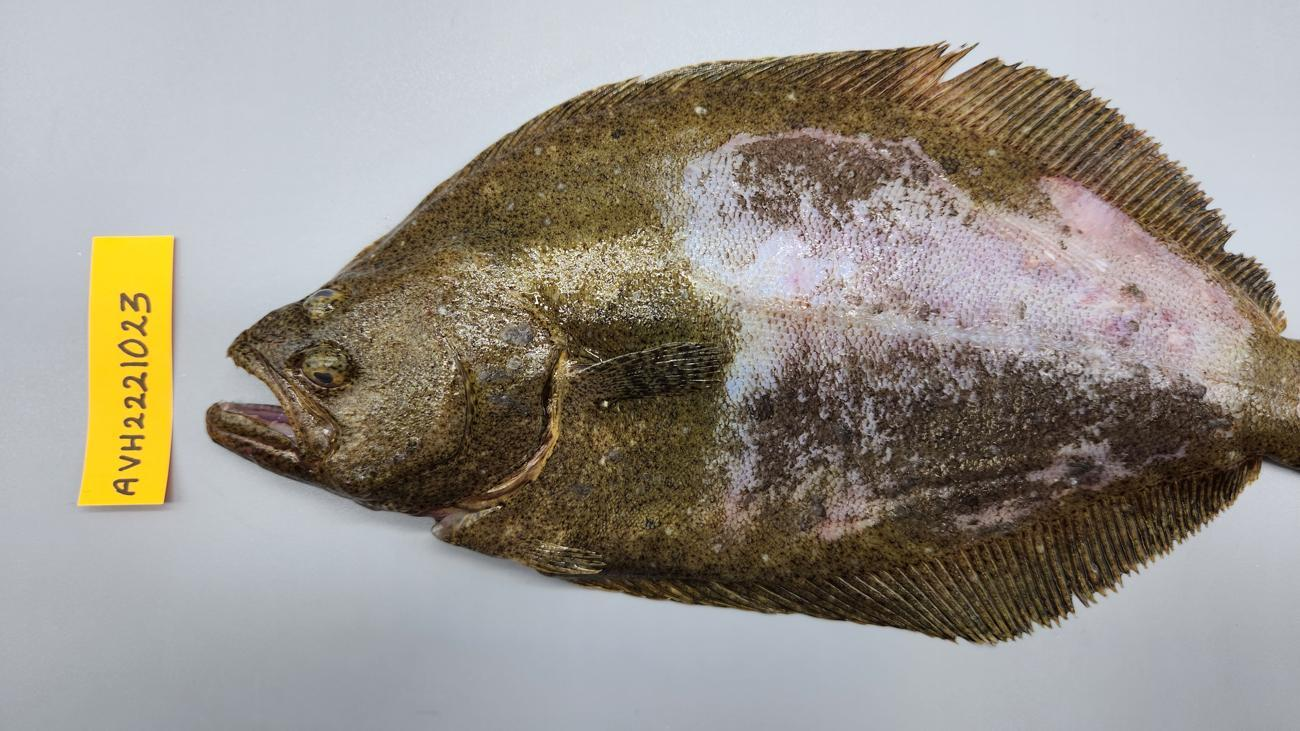VIDYU: (666, 121, 1267, 559)
